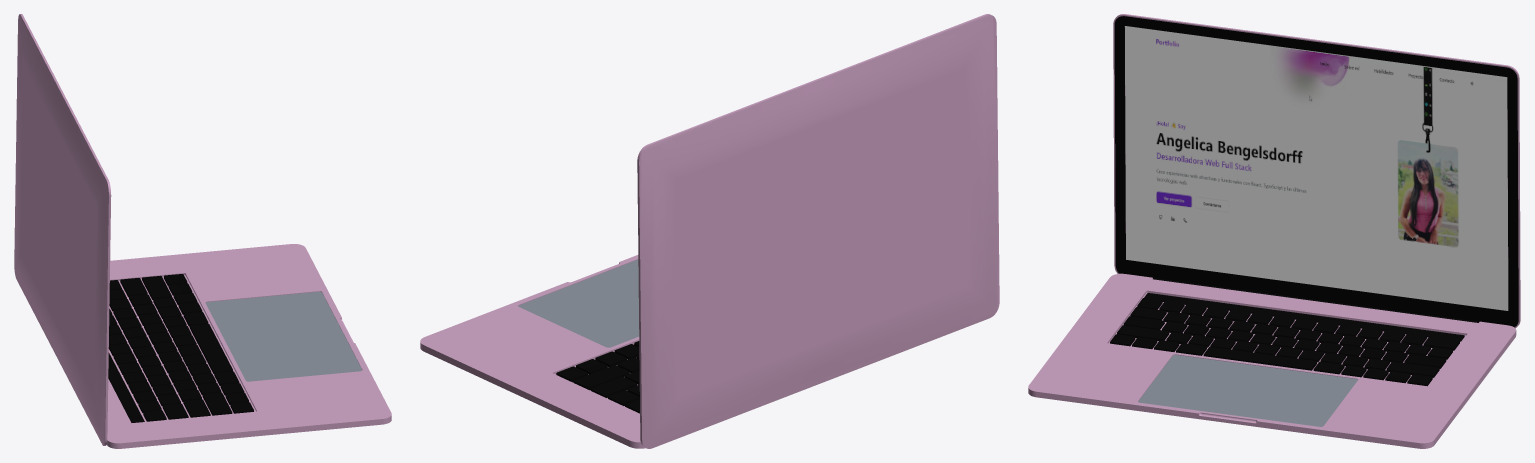
The model's file is angelica.glb.
3 views of the same model, side by side, from view 1: azimuth 30°, elevation 25°; view 2: azimuth 150°, elevation 25°; view 3: azimuth 270°, elevation 25° (orthographic). The views are drawn at different scales.
Visible parts, largest first — view 1: base, screen, keyboard, touchbar; view 2: screen, base, keyboard; view 3: screen, base, keyboard, touchbar.
Part boxes in pixels (x1=…): base: x1=106, y1=244, x2=391, y2=448; screen: x1=14, y1=14, x2=111, y2=445; keyboard: x1=108, y1=274, x2=253, y2=421; touchbar: x1=108, y1=352, x2=144, y2=422; screen: x1=637, y1=14, x2=999, y2=448; base: x1=420, y1=255, x2=645, y2=448; keyboard: x1=556, y1=341, x2=639, y2=413; screen: x1=1113, y1=14, x2=1520, y2=328; base: x1=1028, y1=273, x2=1516, y2=448; keyboard: x1=1110, y1=298, x2=1459, y2=386; touchbar: x1=1144, y1=293, x2=1464, y2=341.
Bounding box in the file's own units: 8.45 × 6.16 × 10.19.
Materials: 6 (1 with a texture image).
